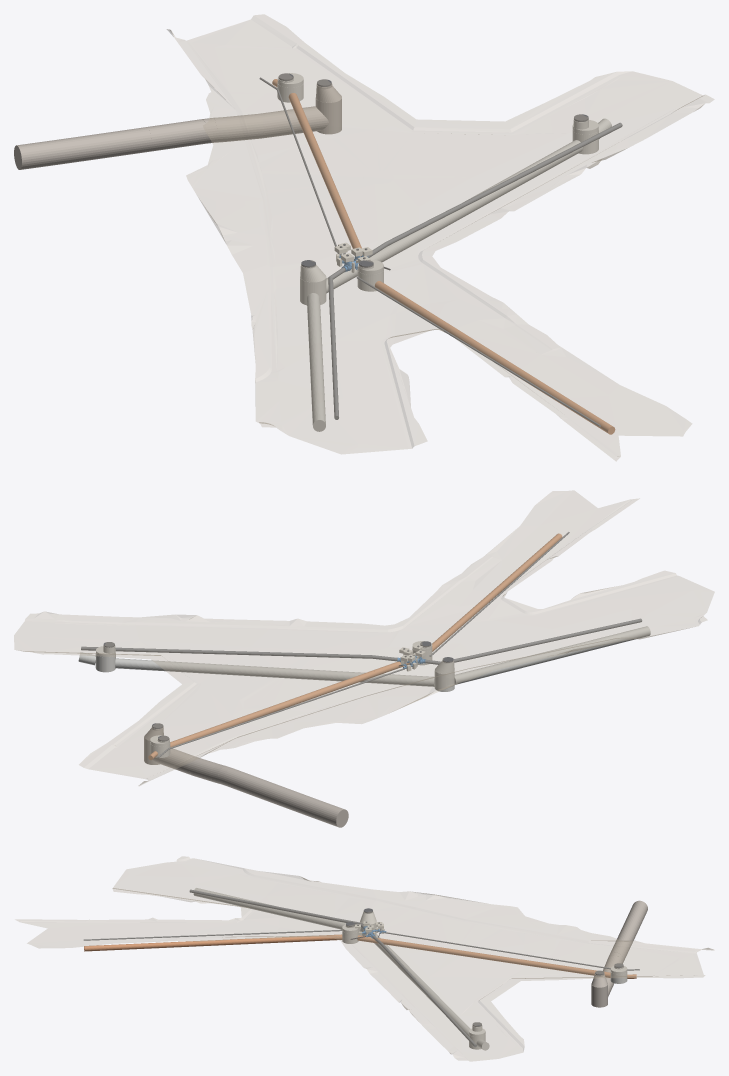
Rendered from nudoC_entorno.glb.
3 renders of one model, top to bottom at view 1: azimuth 30°, elevation 25°; view 2: azimuth 150°, elevation 25°; view 3: azimuth 270°, elevation 25°, orthographic. The views are drawn at different scales.
Parts seen in each view (by area): view 1: Terreno actual, Colector existente HM Ø1200, Colector HG Ø600 R-2 #2, Colector PVC Ø500 R-1 pluviales #2, Colector HG Ø600 R-2 #1, Colector PVC Ø500 R-1 pluviales #1, Tuberia FD DN250 R-2 #2, Pozo existente colector, Tuberia FD DN250 R-2 #1, Pozo PRS-6; view 2: Terreno actual, Colector existente HM Ø1200, Colector HG Ø600 R-2 #2, Colector HG Ø600 R-2 #1, Colector PVC Ø500 R-1 pluviales #1, Tuberia FD DN250 R-2 #2, Colector PVC Ø500 R-1 pluviales #2, Tuberia FD DN250 R-2 #1, Pozo PRS-6; view 3: Terreno actual, Colector PVC Ø500 R-1 pluviales #2, Colector PVC Ø500 R-1 pluviales #1, Colector existente HM Ø1200, Colector HG Ø600 R-2 #1, Colector HG Ø600 R-2 #2, Tuberia FD DN250 R-2 #1, Pozo existente colector, Tuberia FD DN250 R-2 #2, Tuberia FD DN100 R-1 #2, Tuberia FD DN100 R-1 #1.
Part boxes in pixels (left/top/right/bottom): Terreno actual: left=167, top=14, right=714, bottom=461; Colector existente HM Ø1200: left=14, top=106, right=328, bottom=169; Colector HG Ø600 R-2 #2: left=326, top=140, right=582, bottom=293; Colector PVC Ø500 R-1 pluviales #2: left=375, top=281, right=615, bottom=434; Colector HG Ø600 R-2 #1: left=307, top=293, right=325, bottom=431; Colector PVC Ø500 R-1 pluviales #1: left=288, top=93, right=361, bottom=255; Tuberia FD DN250 R-2 #2: left=368, top=123, right=622, bottom=257; Pozo existente colector: left=315, top=83, right=341, bottom=134; Tuberia FD DN250 R-2 #1: left=328, top=267, right=345, bottom=419; Pozo PRS-6: left=300, top=264, right=326, bottom=305; Terreno actual: left=14, top=490, right=714, bottom=785; Colector existente HM Ø1200: left=153, top=748, right=348, bottom=827; Colector HG Ø600 R-2 #2: left=115, top=658, right=434, bottom=686; Colector HG Ø600 R-2 #1: left=454, top=626, right=650, bottom=684; Colector PVC Ø500 R-1 pluviales #1: left=170, top=661, right=409, bottom=746; Tuberia FD DN250 R-2 #2: left=81, top=646, right=397, bottom=661; Colector PVC Ø500 R-1 pluviales #2: left=432, top=533, right=562, bottom=651; Tuberia FD DN250 R-2 #1: left=425, top=618, right=641, bottom=664; Pozo PRS-6: left=434, top=660, right=454, bottom=691; Terreno actual: left=15, top=856, right=714, bottom=1061; Colector PVC Ø500 R-1 pluviales #2: left=84, top=934, right=342, bottom=951; Colector PVC Ø500 R-1 pluviales #1: left=357, top=935, right=610, bottom=977; Colector existente HM Ø1200: left=603, top=900, right=647, bottom=996; Colector HG Ø600 R-2 #1: left=193, top=888, right=359, bottom=931; Colector HG Ø600 R-2 #2: left=370, top=933, right=470, bottom=1035; Tuberia FD DN250 R-2 #1: left=189, top=889, right=364, bottom=927; Pozo existente colector: left=591, top=973, right=607, bottom=1007; Tuberia FD DN250 R-2 #2: left=372, top=936, right=476, bottom=1046; Tuberia FD DN100 R-1 #2: left=84, top=929, right=342, bottom=940; Tuberia FD DN100 R-1 #1: left=385, top=932, right=639, bottom=970.
Bounding box in the file's own units: 44.68 × 3.55 × 63.85.
